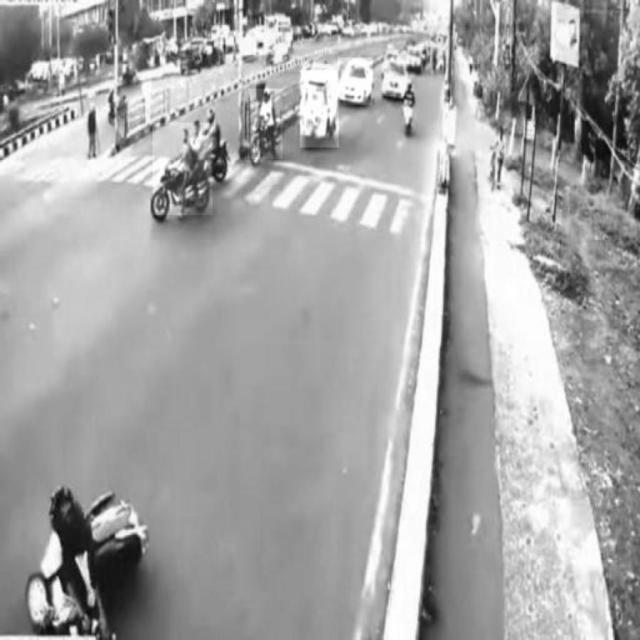vehicle: (153, 122, 214, 215), (300, 71, 338, 148), (249, 89, 284, 159), (337, 58, 373, 105)
